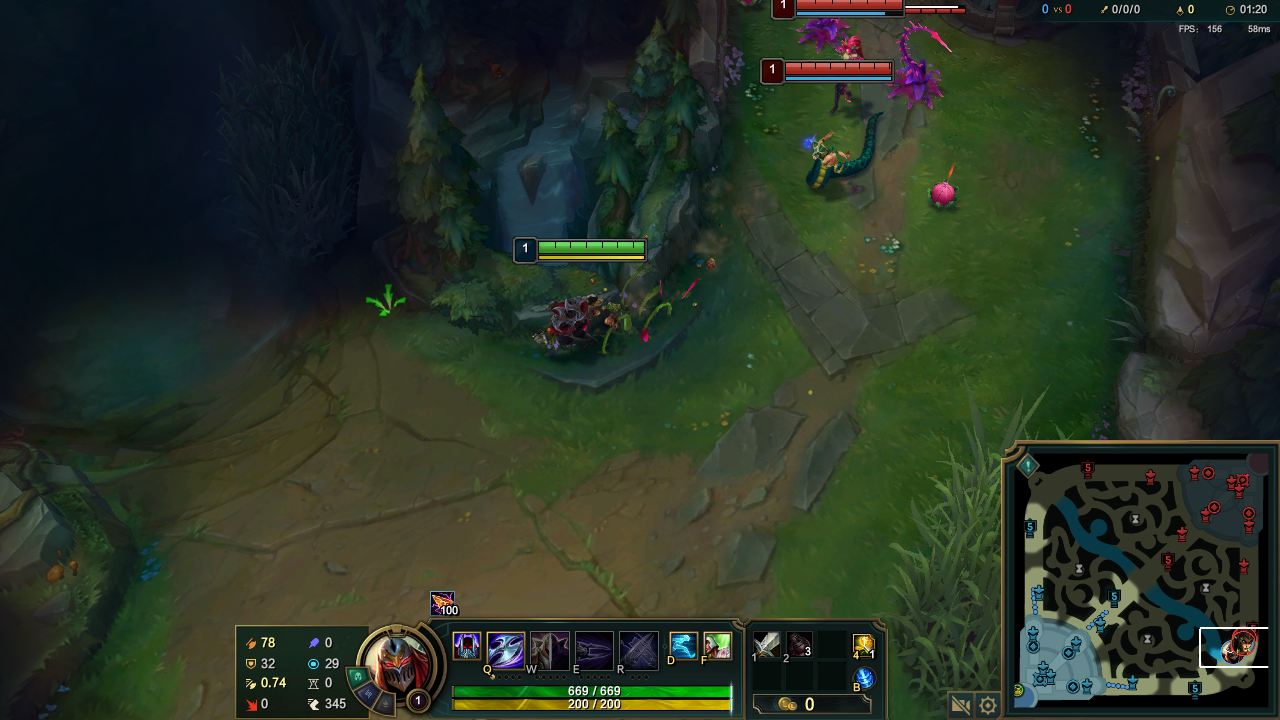DFYX: (784, 65, 890, 76), (797, 1, 903, 9)
